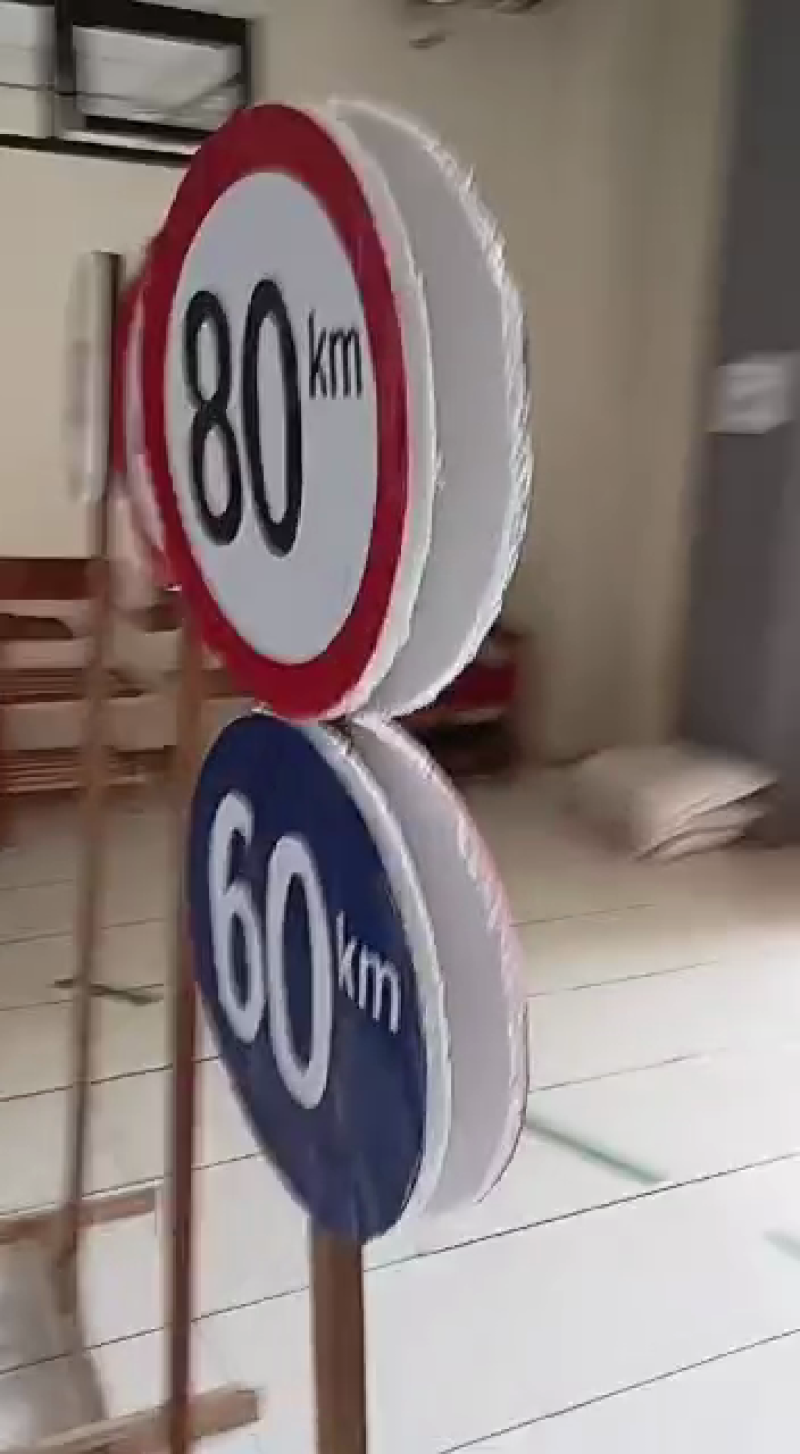batas maksimal 80kmperjam minimal 60kmperjam: (144, 92, 459, 1246)
